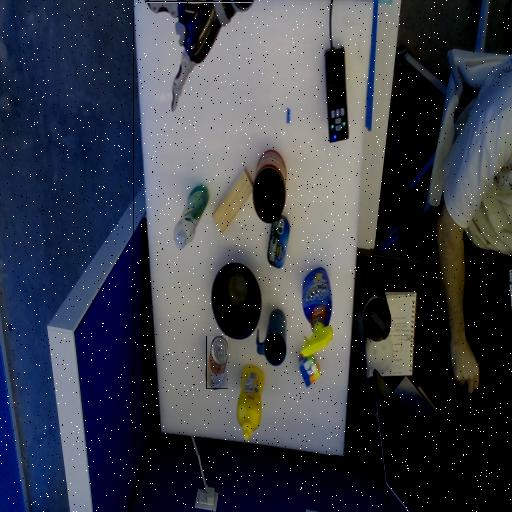bowl: (212, 262, 261, 337)
cleanser: (174, 186, 209, 248)
coffee_can: (254, 149, 286, 221)
jaco: (145, 3, 253, 108)
meat_can: (267, 231, 289, 252)
mug: (258, 309, 286, 363)
mustard_bottle: (238, 389, 263, 413)
rubik: (300, 353, 320, 387)
soup_can: (207, 336, 227, 388)
windex: (302, 296, 333, 326)
wooden_block: (213, 166, 253, 232)
workspace: (134, 3, 370, 455)
